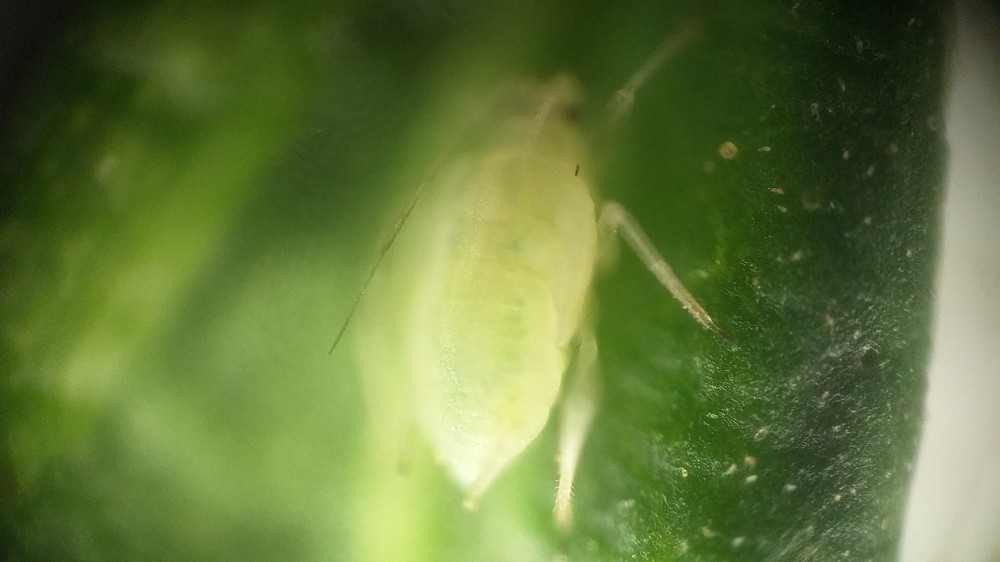Pulgon: (279, 24, 750, 550)
